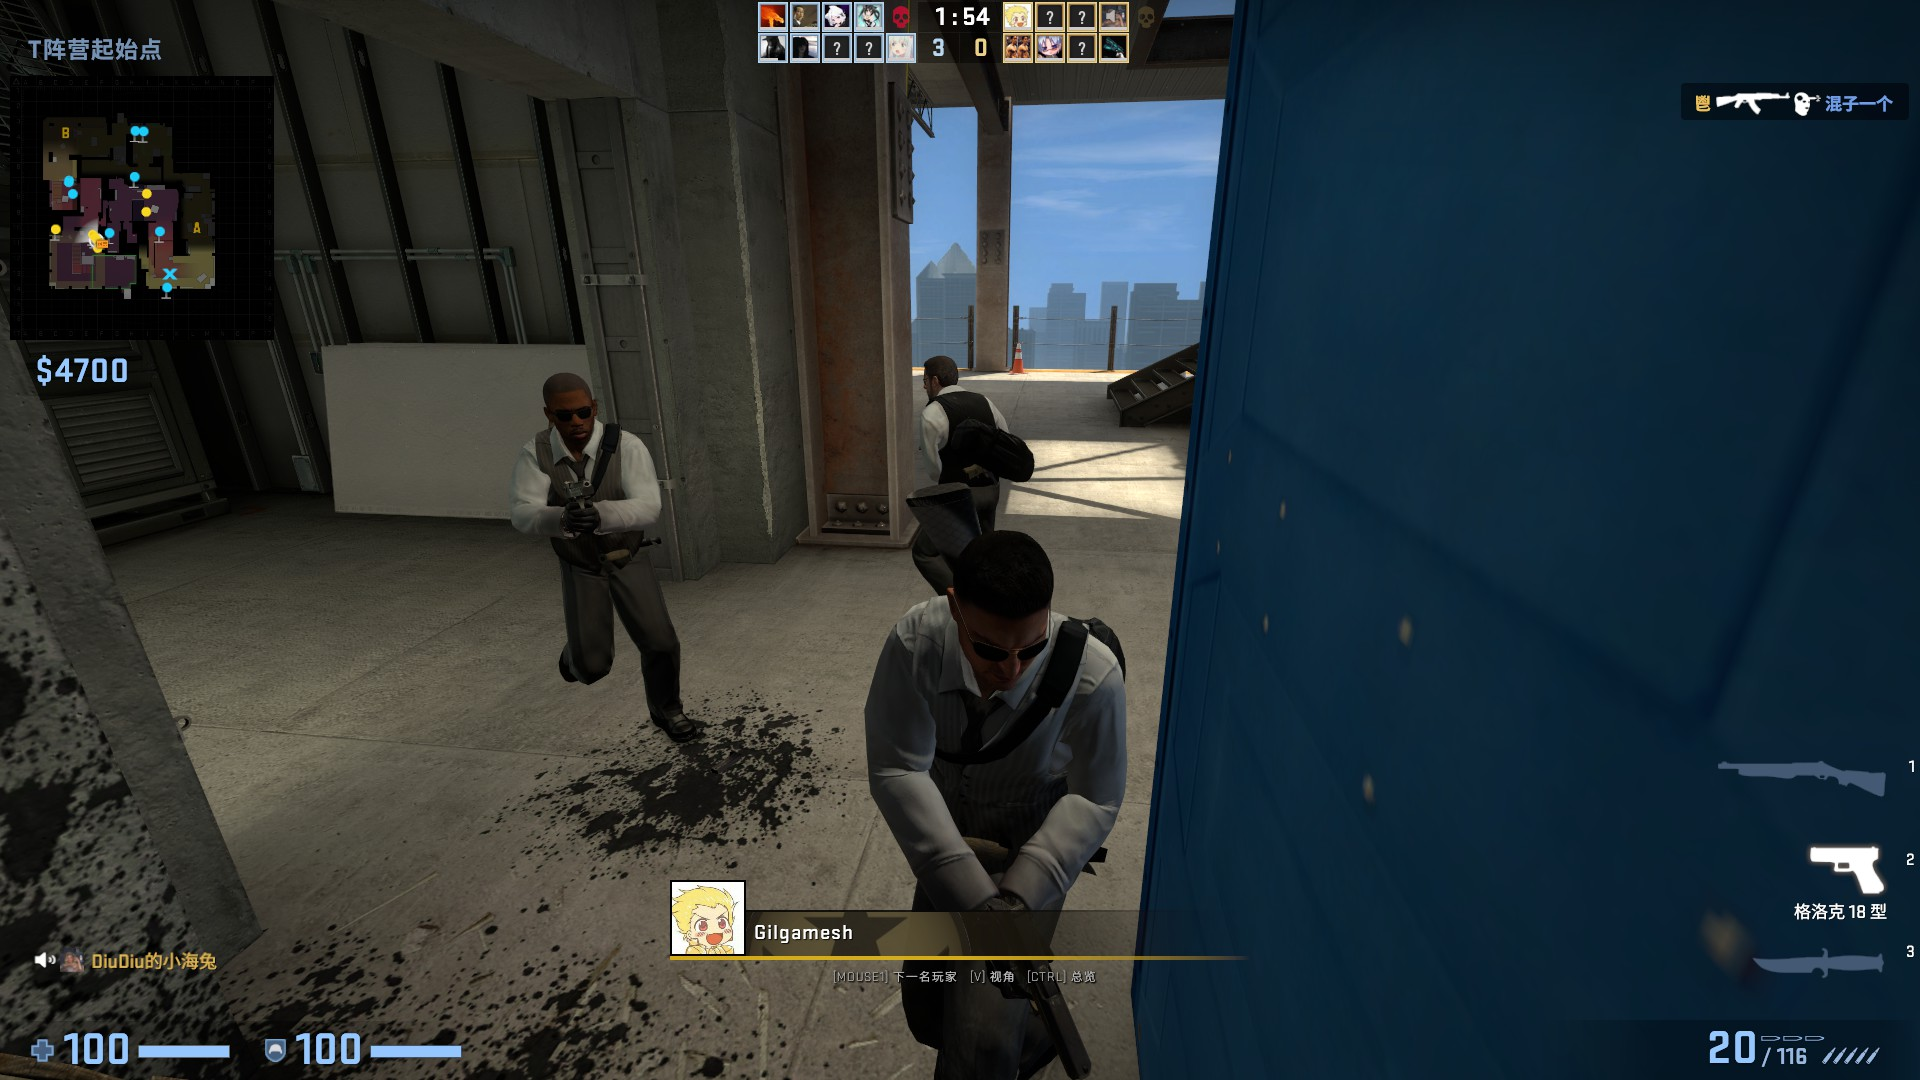head: (949, 528, 1058, 693), (534, 370, 602, 443), (917, 354, 958, 397)
